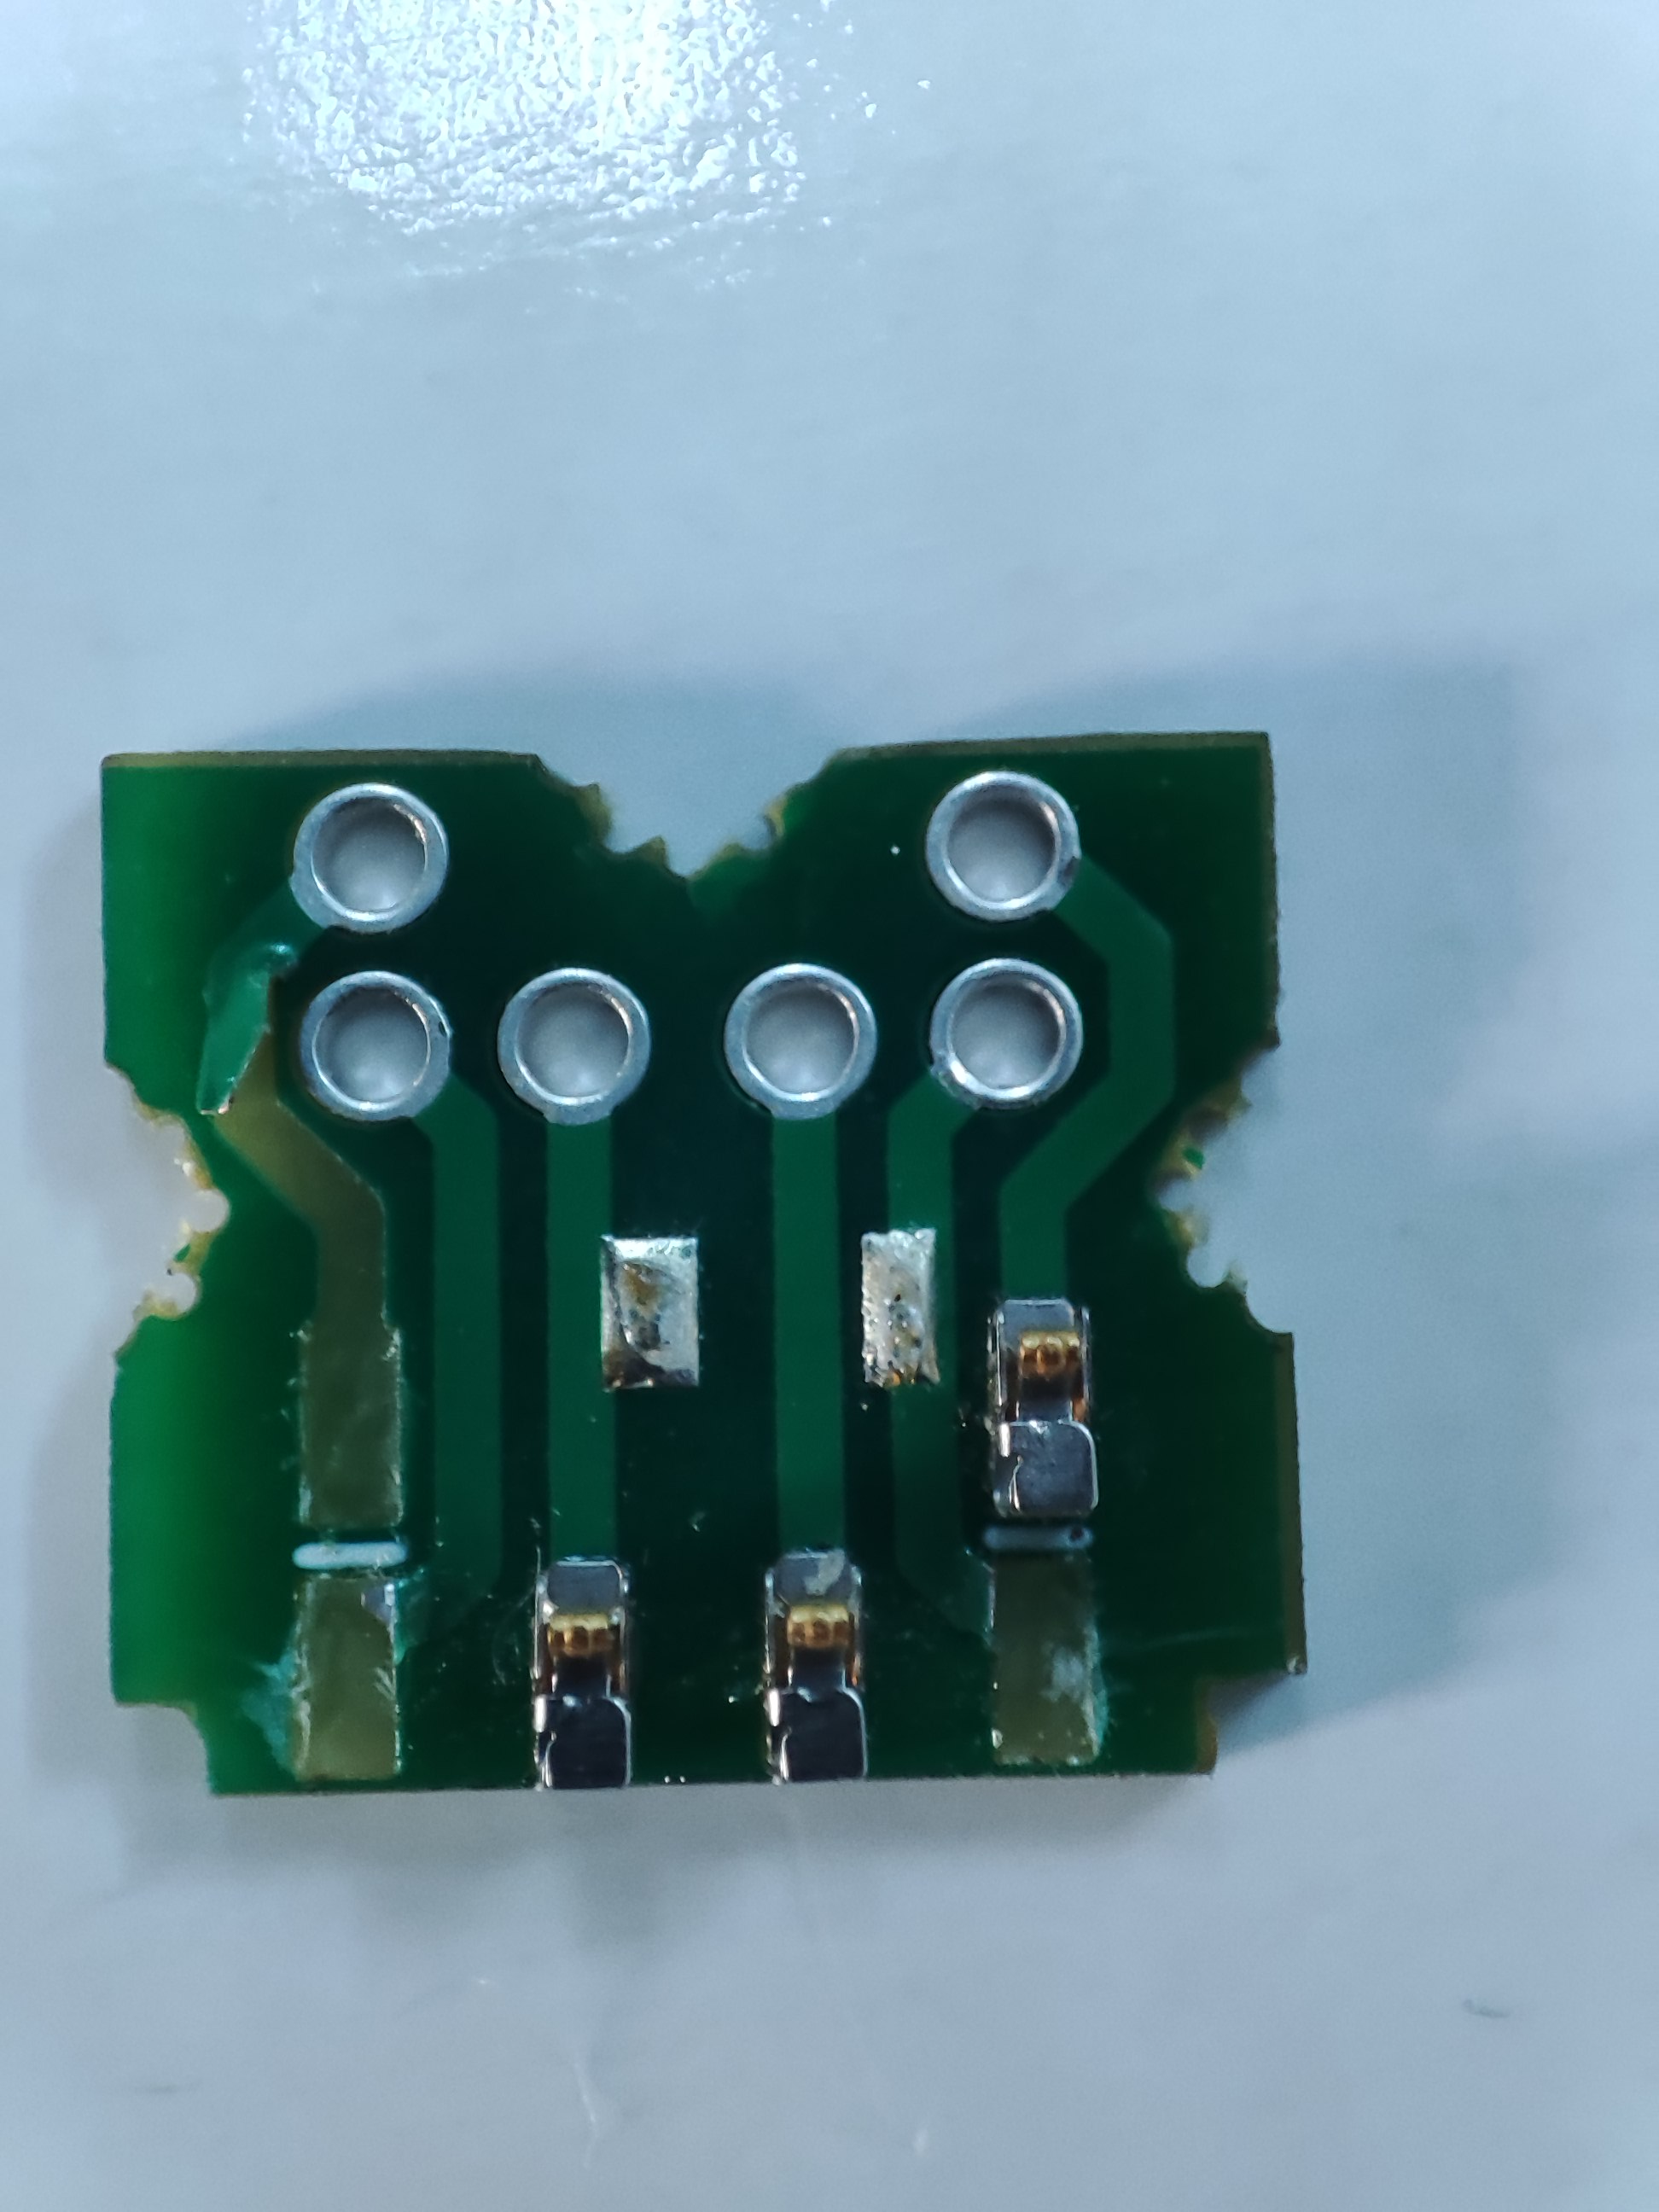PCB-MODEL-0: (66, 714, 1319, 1806)
defected-spring_finger: (981, 1550, 1112, 1778), (282, 1571, 411, 1789), (291, 1331, 411, 1540)
normal-spring_finger: (974, 1284, 1115, 1533), (521, 1554, 660, 1803), (744, 1548, 884, 1797)
normal-through: (469, 963, 667, 1120), (706, 958, 904, 1115), (913, 956, 1112, 1113), (272, 779, 469, 935), (274, 965, 471, 1122), (910, 766, 1107, 923)
